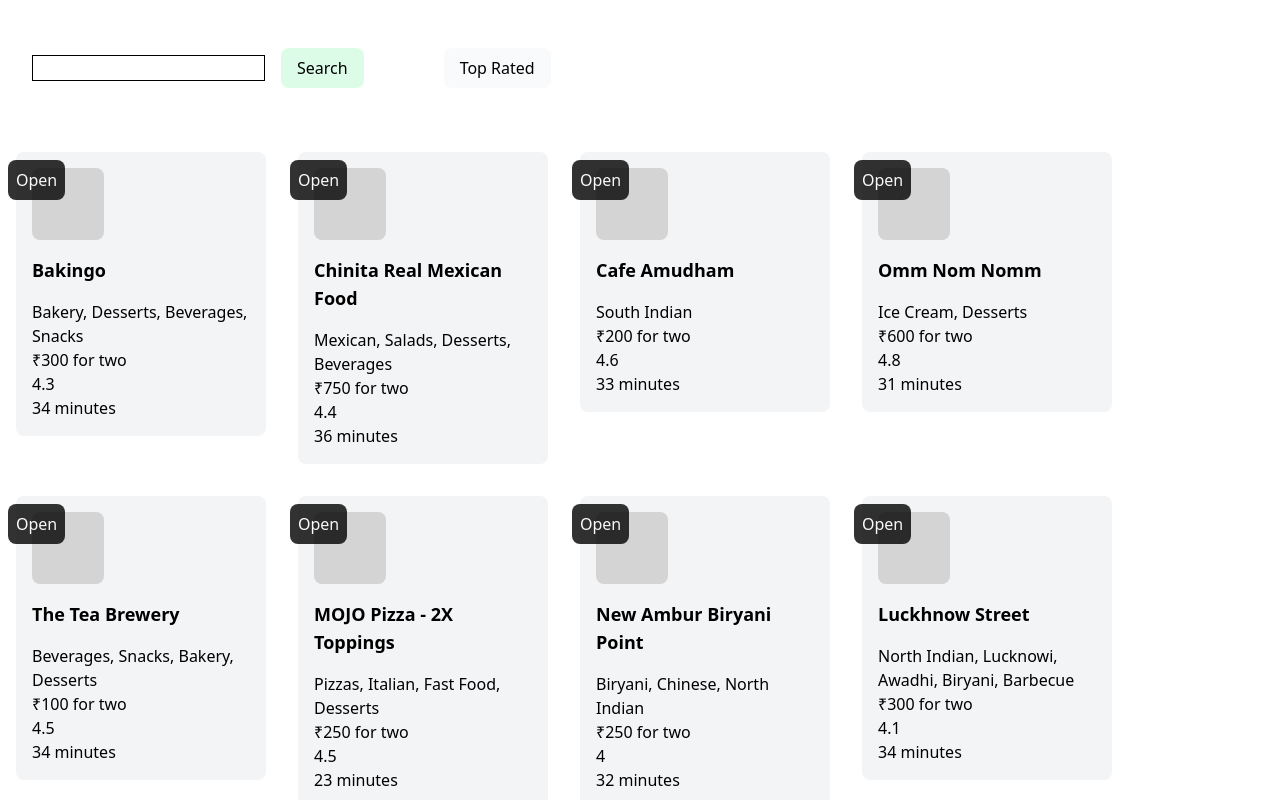
it: Should Filter Top Rated Restaurants
What coordinates should you click on to do the following:
click the button "Top Rated"
I would click on:
 (497, 68)
Its box is x1=444 y1=48 x2=551 y2=88.
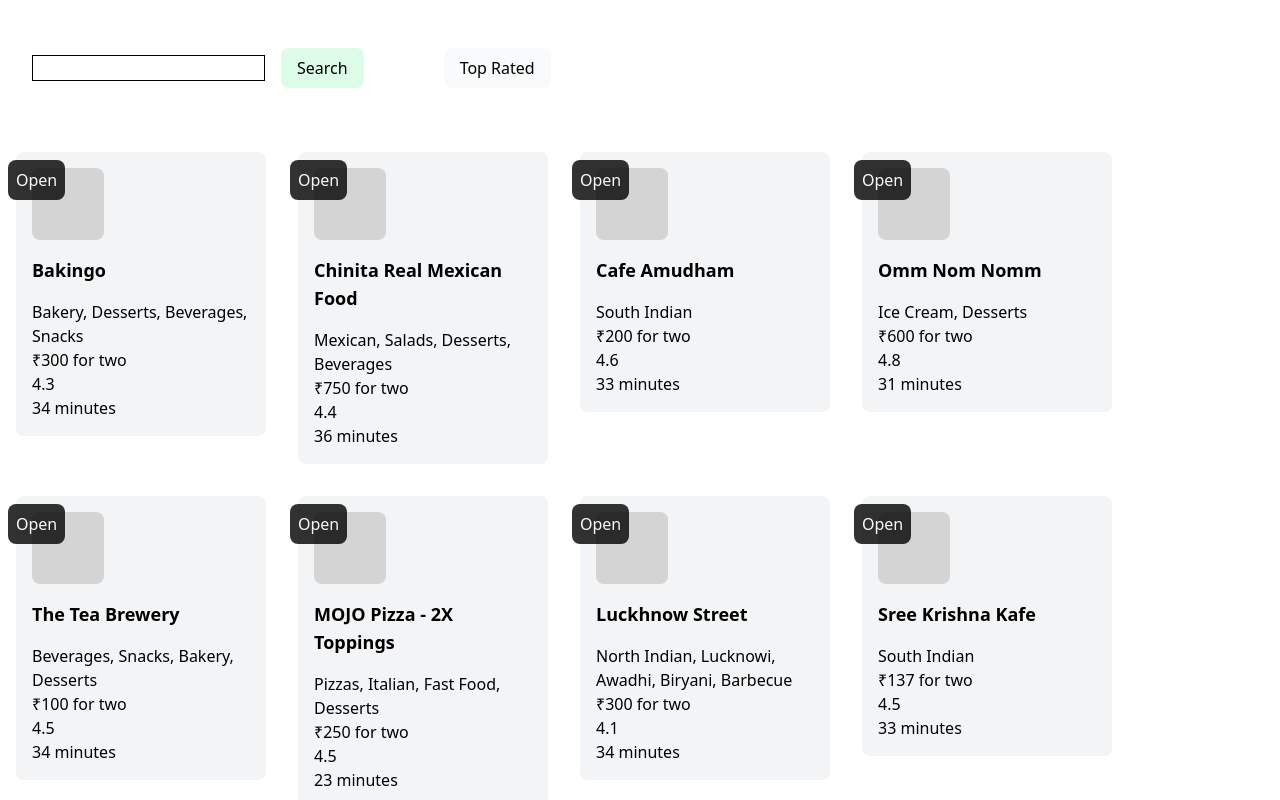
Now the number of elements with test id "resCard" is 8
